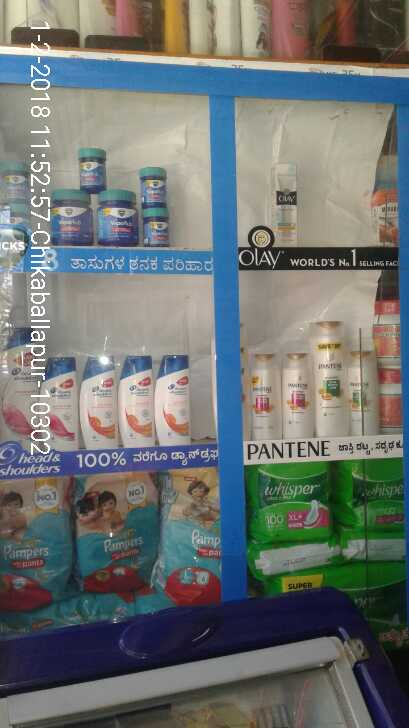beauty: (308, 319, 348, 446), (40, 350, 81, 455), (81, 352, 121, 450), (155, 351, 194, 446), (121, 350, 153, 450), (342, 345, 378, 432), (247, 351, 282, 437), (282, 350, 313, 443), (268, 158, 298, 248)
pharmacy: (70, 473, 164, 597), (155, 466, 229, 614), (4, 481, 71, 601), (251, 465, 334, 545), (340, 459, 409, 538), (94, 187, 139, 248), (50, 189, 95, 248), (77, 143, 109, 194), (140, 168, 167, 206), (143, 207, 168, 247)
